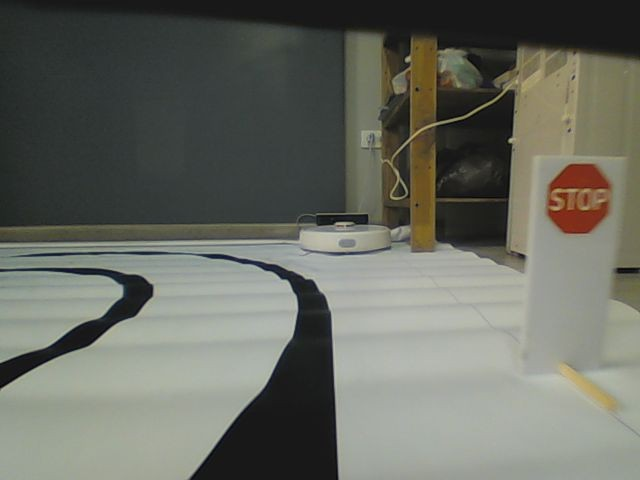Stop: (543, 162, 614, 237)
